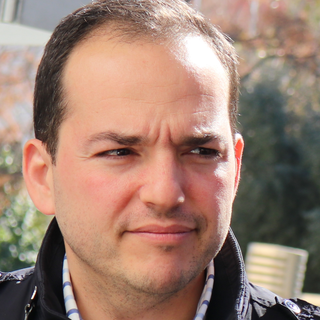eye: (92, 141, 143, 165), (177, 139, 222, 164)
